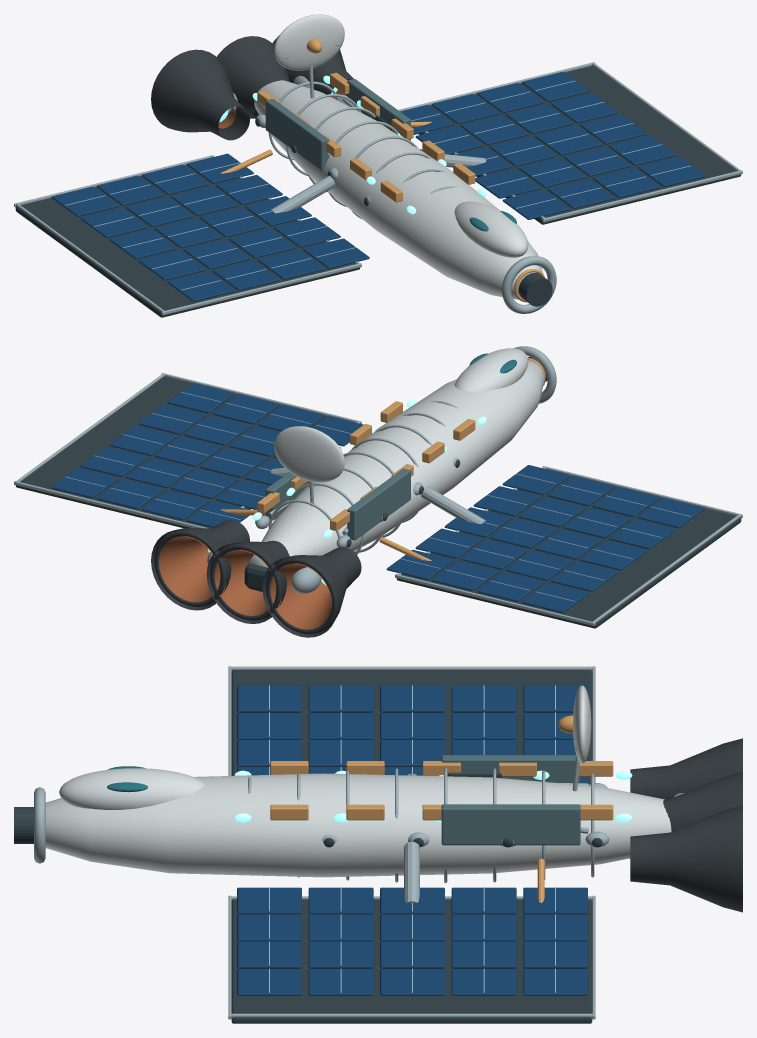
The model's file is romone-explorer.glb.
3 views of the same model, one above another, from view 1: azimuth 30°, elevation 25°; view 2: azimuth 150°, elevation 25°; view 3: azimuth 270°, elevation 25° (orthographic). The views are drawn at different scales.
Parts seen in each view (by area): view 1: Blue photovoltaic cells assembly, Ivory ceramic heatshield assembly, Graphite composite assembly, Refractory carbon nozzle assembly, Brushed titanium assembly, Multilayer thermal foil assembly, Dark radiator fins assembly, Photovoltaic busbars assembly; view 2: Blue photovoltaic cells assembly, Ivory ceramic heatshield assembly, Graphite composite assembly, Brushed titanium assembly, Refractory carbon nozzle assembly, Copper alloy nozzle liner assembly, Dark radiator fins assembly, Multilayer thermal foil assembly, Photovoltaic busbars assembly; view 3: Blue photovoltaic cells assembly, Ivory ceramic heatshield assembly, Graphite composite assembly, Refractory carbon nozzle assembly, Brushed titanium assembly, Dark radiator fins assembly, Multilayer thermal foil assembly, Photovoltaic busbars assembly, Ion engine glow assembly.
Part boxes in pixels (x1=…): Blue photovoltaic cells assembly: x1=51, y1=72, x2=704, y2=301; Ivory ceramic heatshield assembly: x1=254, y1=14, x2=542, y2=299; Graphite composite assembly: x1=15, y1=65, x2=741, y2=317; Refractory carbon nozzle assembly: x1=151, y1=35, x2=353, y2=140; Brushed titanium assembly: x1=14, y1=44, x2=742, y2=315; Multilayer thermal foil assembly: x1=220, y1=38, x2=544, y2=302; Dark radiator fins assembly: x1=265, y1=79, x2=410, y2=170; Photovoltaic busbars assembly: x1=65, y1=80, x2=690, y2=290; Blue photovoltaic cells assembly: x1=51, y1=383, x2=704, y2=612; Ivory ceramic heatshield assembly: x1=249, y1=348, x2=544, y2=567; Graphite composite assembly: x1=15, y1=356, x2=741, y2=628; Brushed titanium assembly: x1=14, y1=346, x2=742, y2=625; Refractory carbon nozzle assembly: x1=151, y1=519, x2=361, y2=637; Copper alloy nozzle liner assembly: x1=158, y1=536, x2=332, y2=629; Dark radiator fins assembly: x1=265, y1=468, x2=410, y2=540; Multilayer thermal foil assembly: x1=220, y1=358, x2=545, y2=560; Photovoltaic busbars assembly: x1=65, y1=392, x2=691, y2=601; Blue photovoltaic cells assembly: x1=237, y1=685, x2=587, y2=995; Ivory ceramic heatshield assembly: x1=45, y1=685, x2=671, y2=877; Graphite composite assembly: x1=14, y1=670, x2=630, y2=1023; Refractory carbon nozzle assembly: x1=630, y1=738, x2=742, y2=912; Brushed titanium assembly: x1=34, y1=666, x2=683, y2=1019; Dark radiator fins assembly: x1=441, y1=755, x2=580, y2=845; Multilayer thermal foil assembly: x1=270, y1=715, x2=613, y2=902; Photovoltaic busbars assembly: x1=269, y1=685, x2=555, y2=992; Ion engine glow assembly: x1=234, y1=770, x2=632, y2=822.
Bounding box in the file's own units: 12.5 × 3.11 × 11.01.
